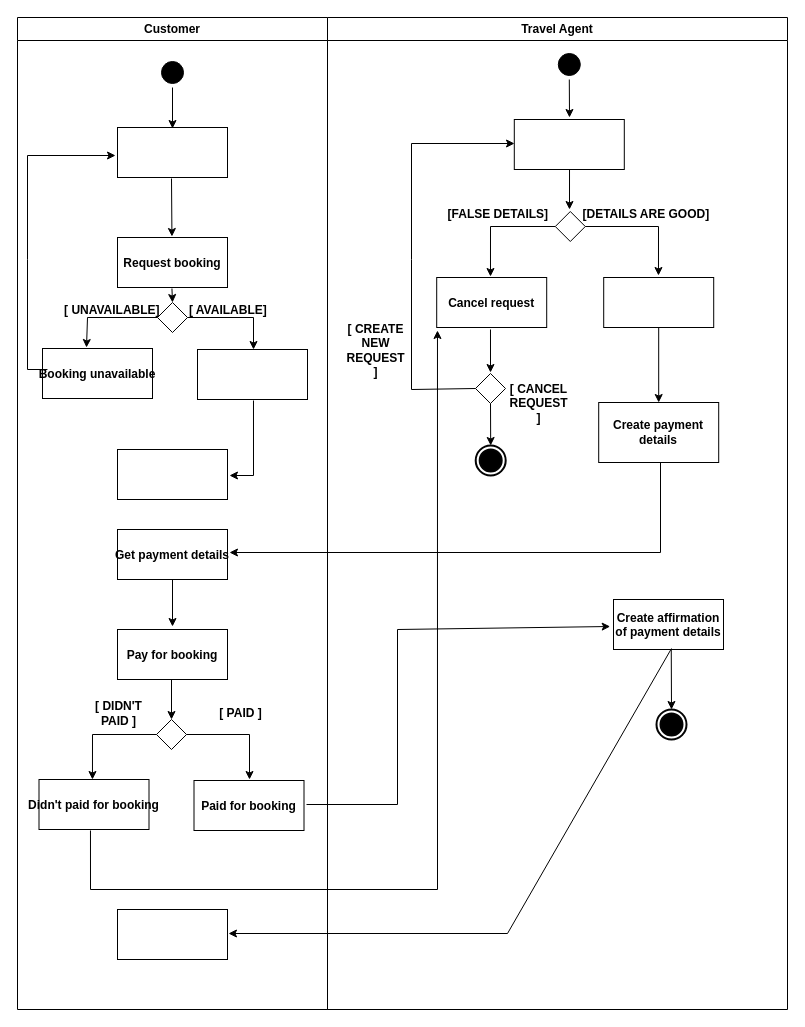
Some shapes in this 805 by 1027 pixel diagram are drawn without their labels. The centre of each missing label's shape, as x and y in pixels:
Accept request: [658,302]
Booking available: [252,374]
Check request details: [568,144]
Fill in booking required information: [172,474]
Find hotel: [172,152]
Getting booking confirmation: [172,934]
